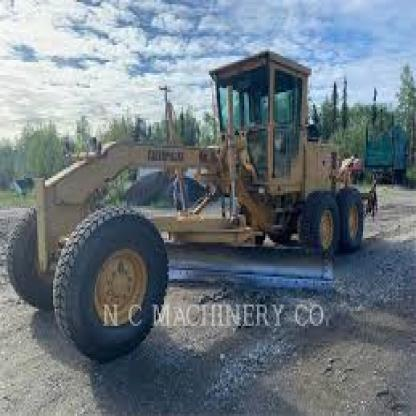bull_dozer/loader/grader: (19, 50, 402, 376)
